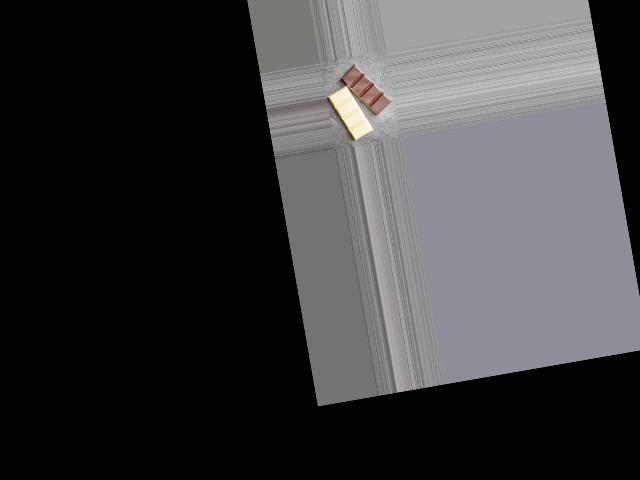chocolate: (324, 59, 396, 146)
